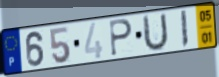4: (83, 22, 105, 60)
5: (48, 25, 72, 65)
6: (25, 29, 45, 68)
I: (179, 9, 190, 50)
P: (108, 18, 134, 58)
U: (142, 11, 170, 54)
